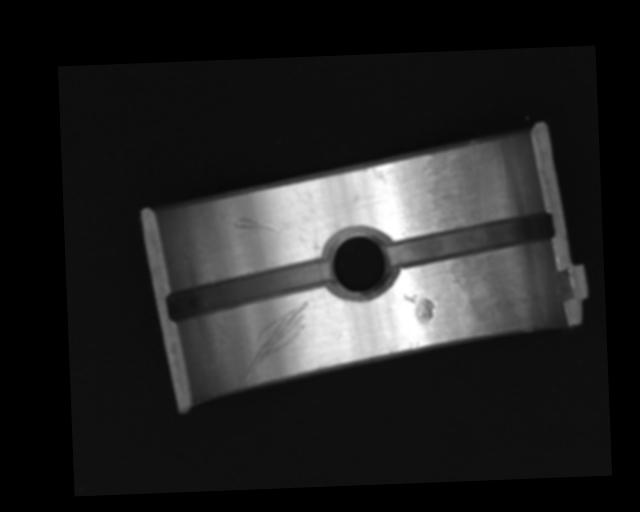bruise: (404, 293, 436, 324)
gap: (165, 259, 332, 320), (387, 212, 554, 263)
hole: (324, 224, 396, 303)
nick: (242, 299, 310, 380), (232, 214, 286, 236)
